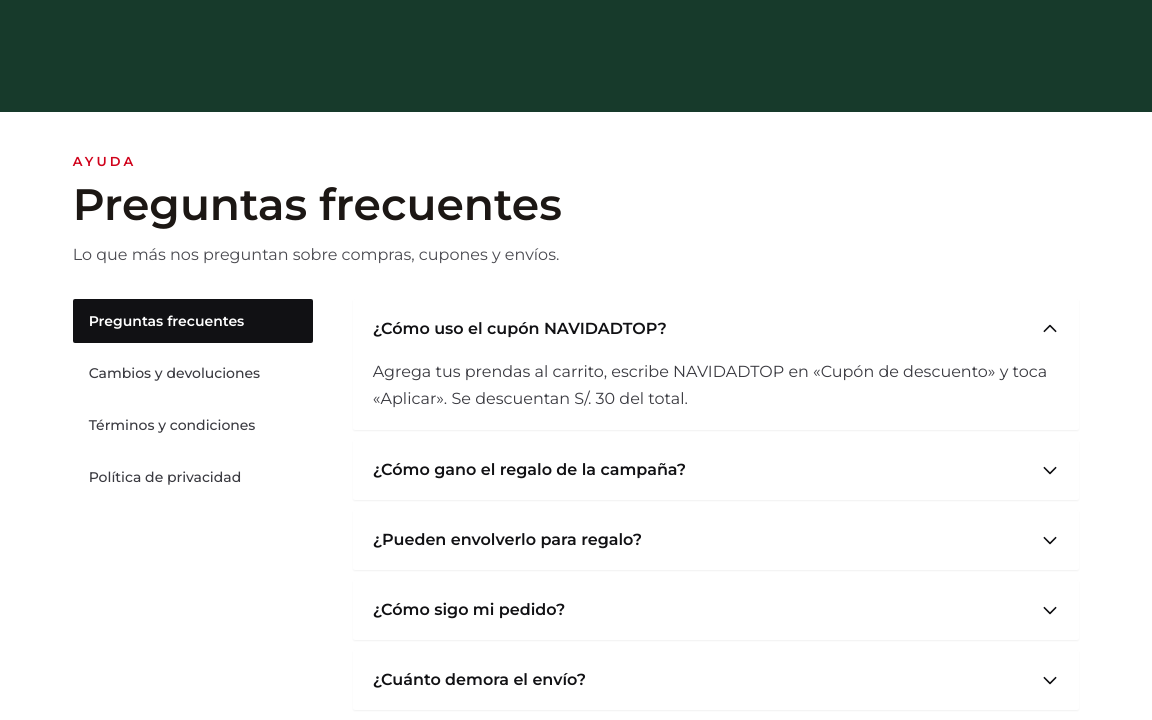
Test case: AyudaPage › abre la primera pregunta y despliega otras al tocarlas
Click the button "¿Cuánto demora el envío?". click: (479, 679)
box: top-left (373, 670), bottom-right (1059, 689)
(page scrolled)
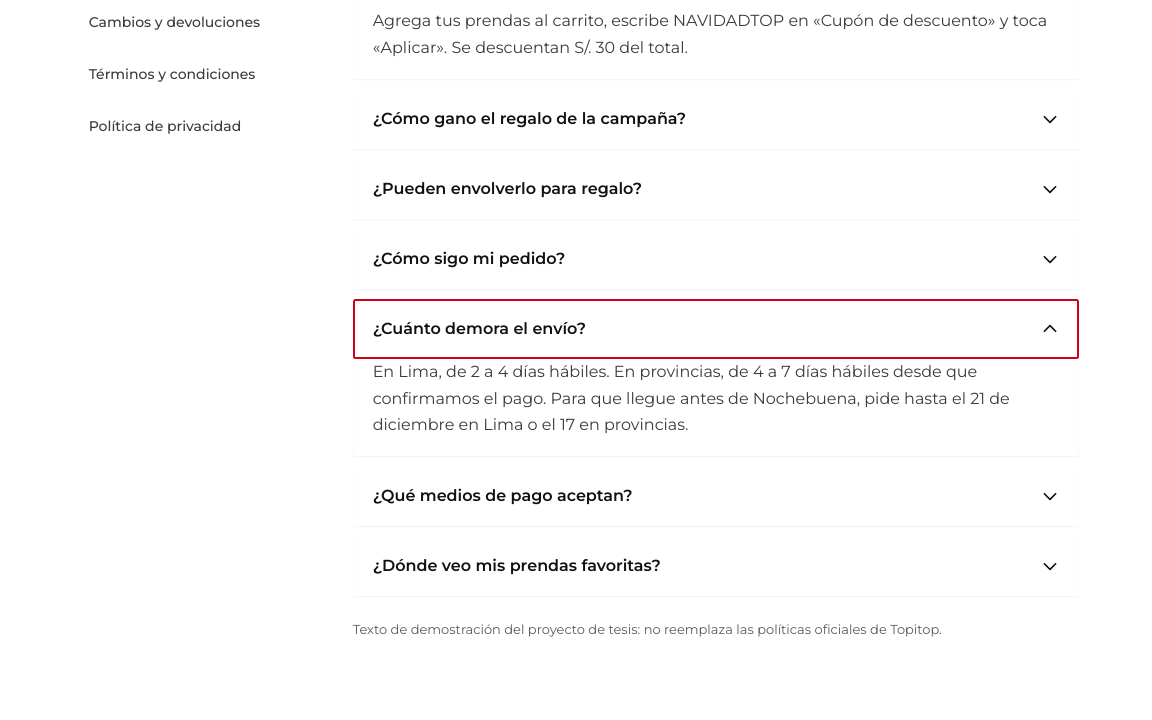
Expected: the button "¿Cuánto demora el envío?" is expanded, top-left (373, 319), bottom-right (1059, 338)
Expected: the text "En Lima, de 2 a 4 días hábiles" is shown, top-left (373, 362), bottom-right (1010, 434)
